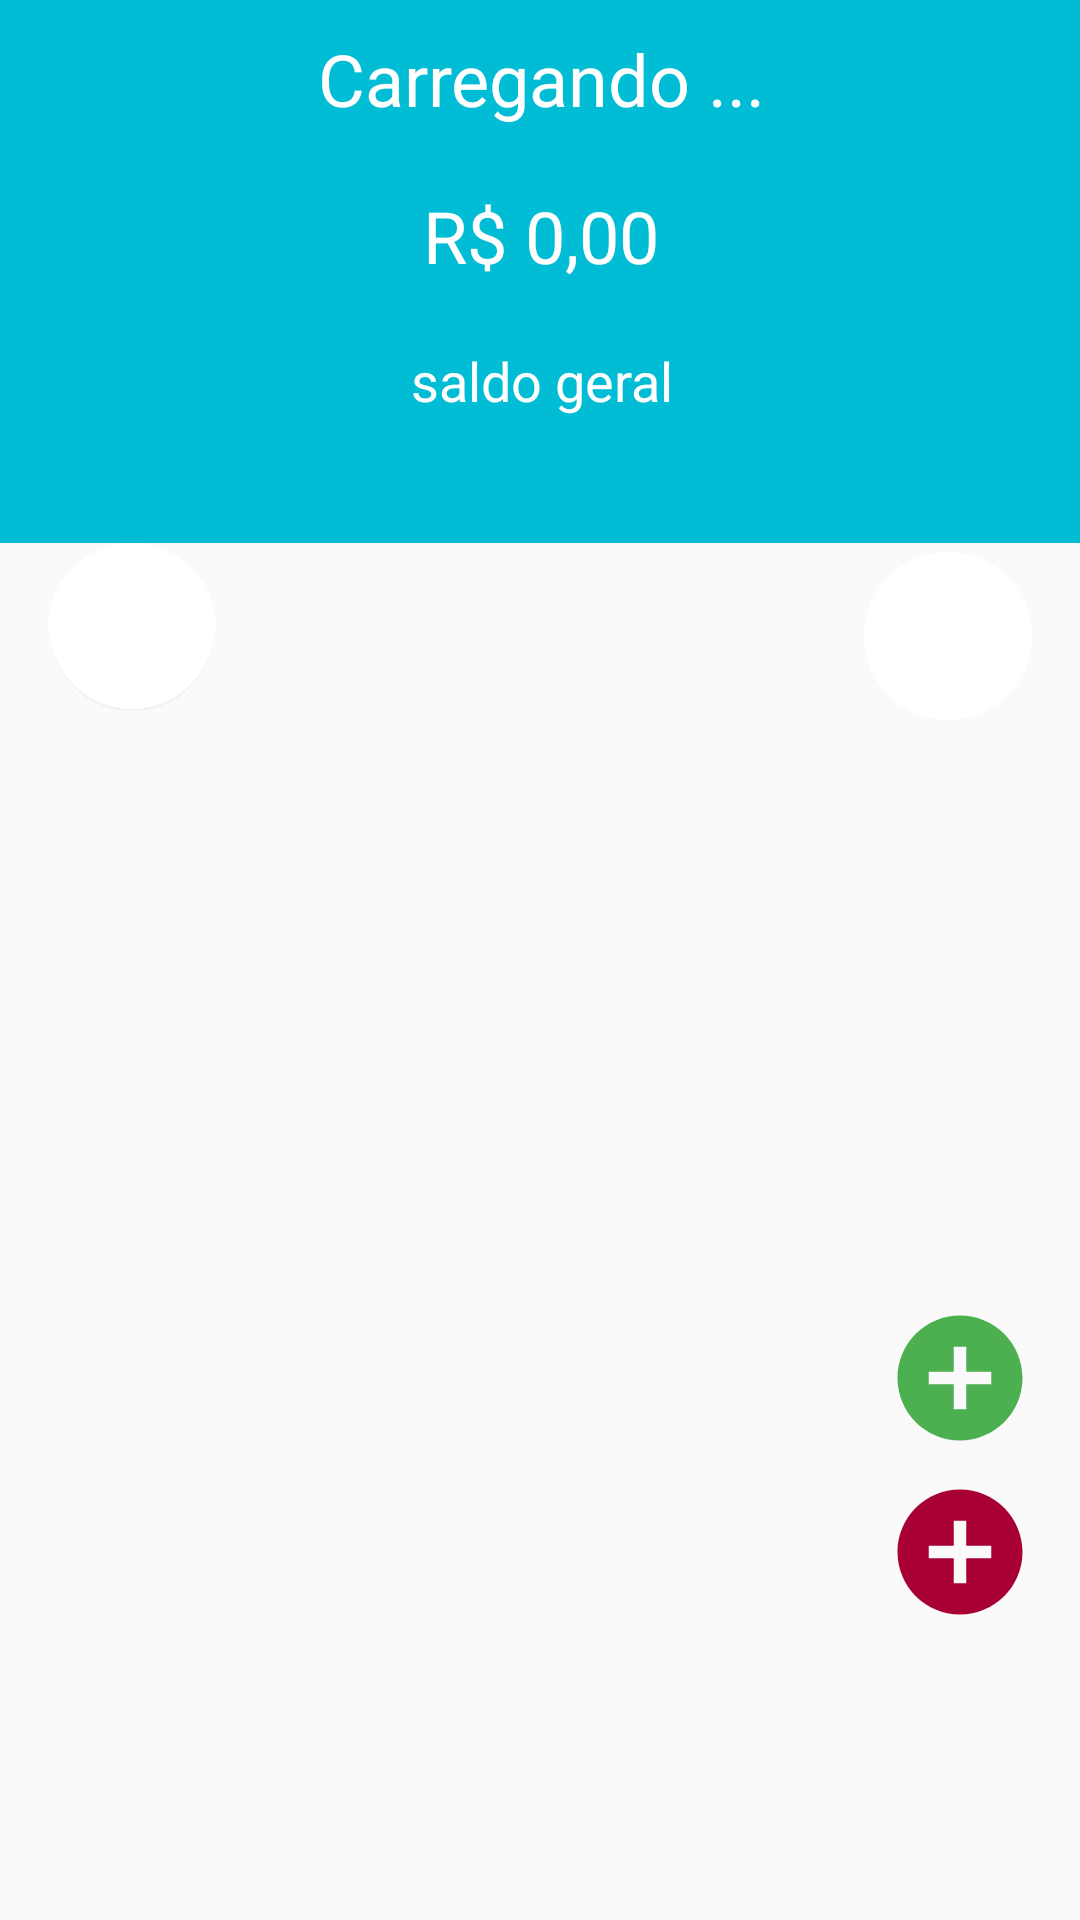

Icon click points for this 1080w x 1920h phone screenshot, format point (x, y):
add circle verde: point (960, 1378)
add circle vermelho: point (960, 1552)
